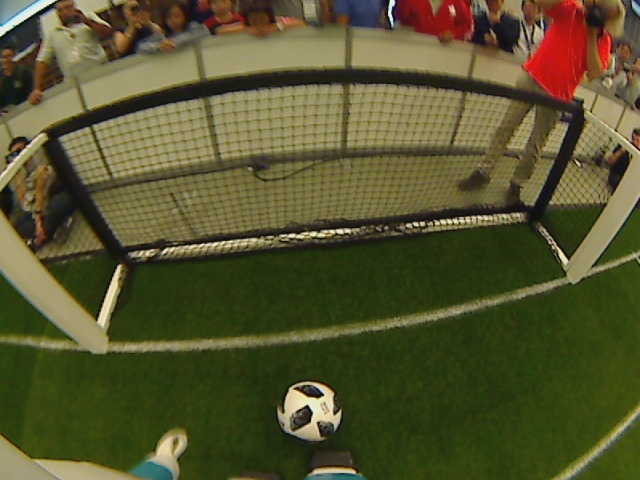ball: (275, 376, 343, 443)
